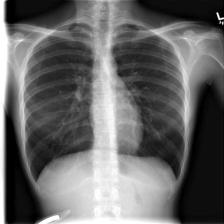normal: (20, 15, 188, 193)
